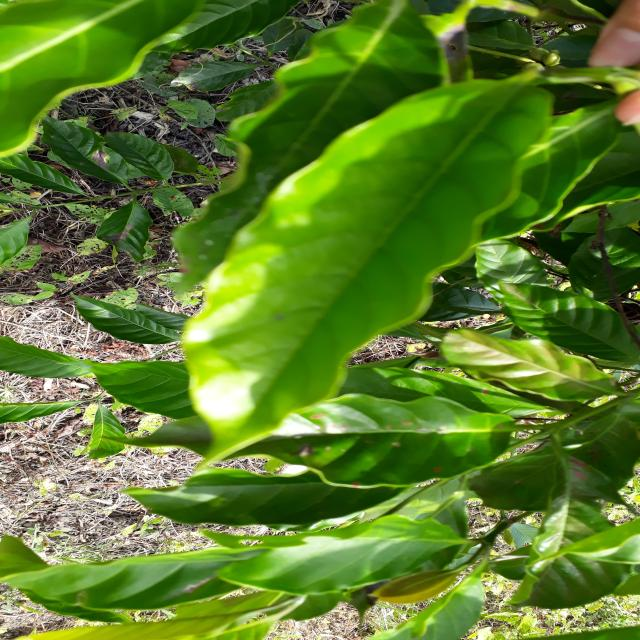Sanas: (181, 76, 556, 466)
